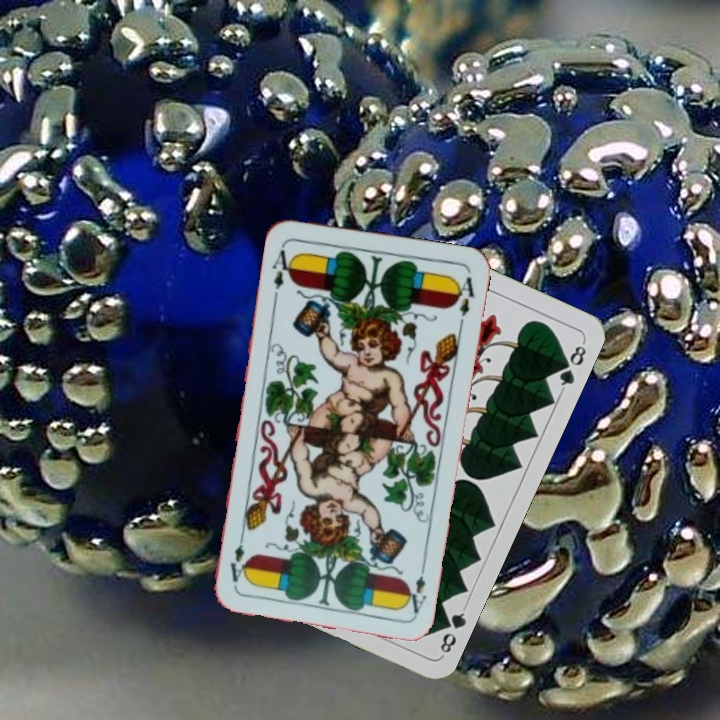EA: (268, 241, 297, 300), (401, 558, 430, 616)
G8: (434, 602, 469, 658)
